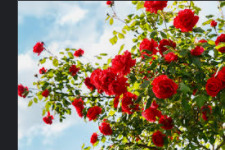RedRose: (151, 72, 178, 99)
